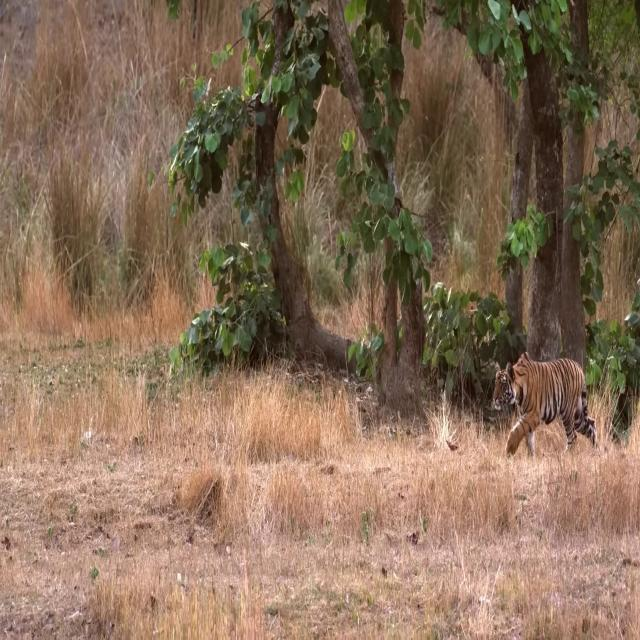tiger: (492, 351, 598, 456)
